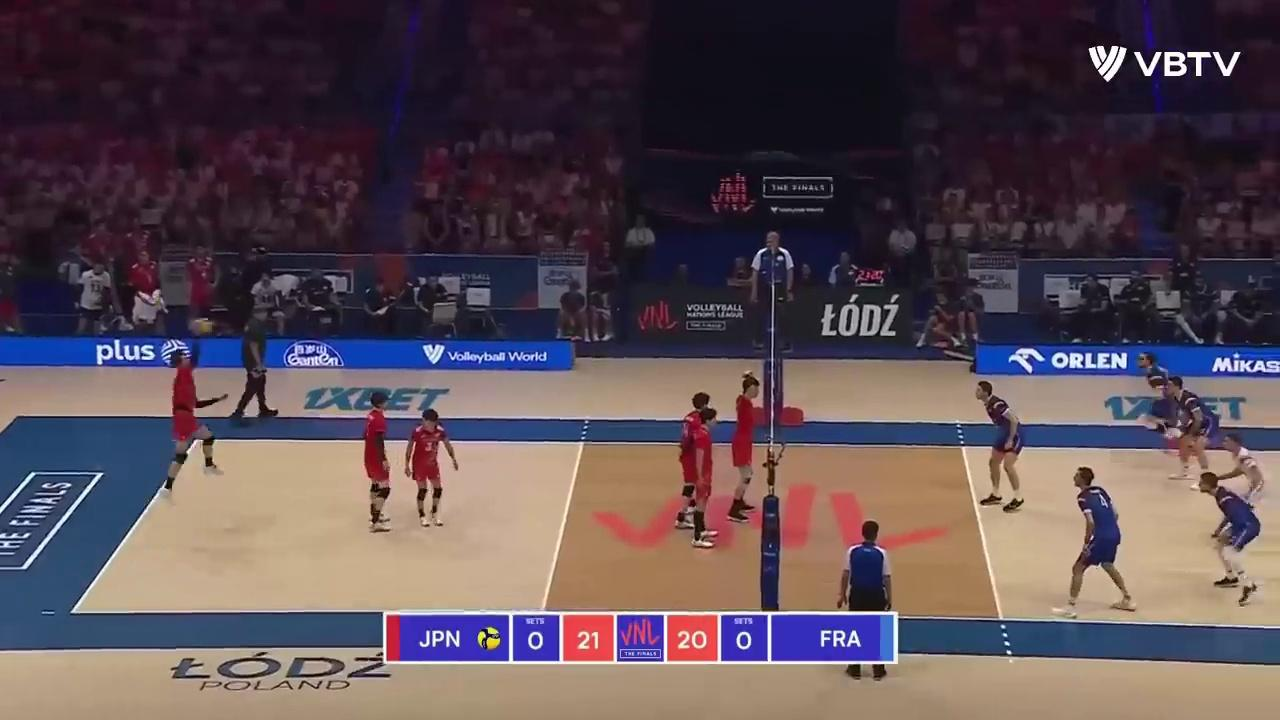ball: (189, 318, 215, 335)
